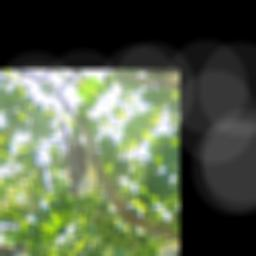Cuckoo: (20, 113, 120, 205)
